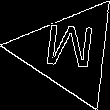M_S: (41, 25, 97, 79)
